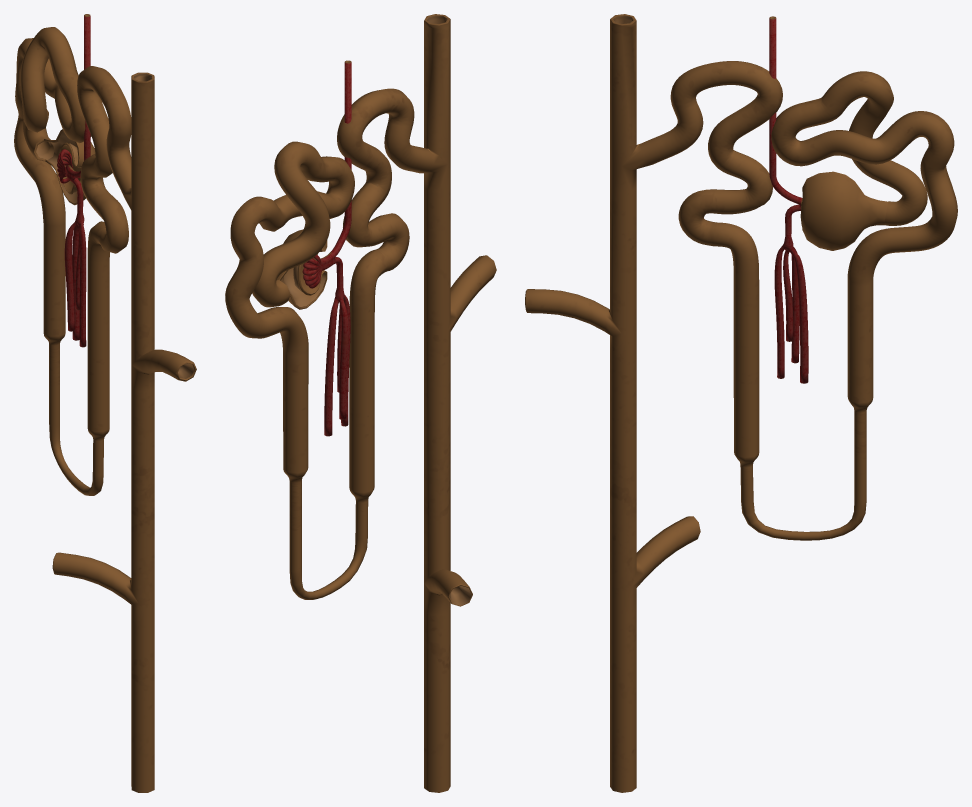
The model's file is Nefrona_85.glb.
3 renders of one model, left to right at view 1: azimuth 30°, elevation 25°; view 2: azimuth 150°, elevation 25°; view 3: azimuth 270°, elevation 25°, orthographic. The views are drawn at different scales.
Parts seen in each view (by area): view 1: nefrona; view 2: nefrona; view 3: nefrona.
Boxes of the visible parts, left/top/right/bottom form: nefrona: left=14, top=14, right=196, bottom=792; nefrona: left=225, top=14, right=496, bottom=792; nefrona: left=525, top=14, right=957, bottom=792.
Bounding box in the file's own units: 0.2388 × 1.48 × 0.75.
Materials: 1 (1 with a texture image).
